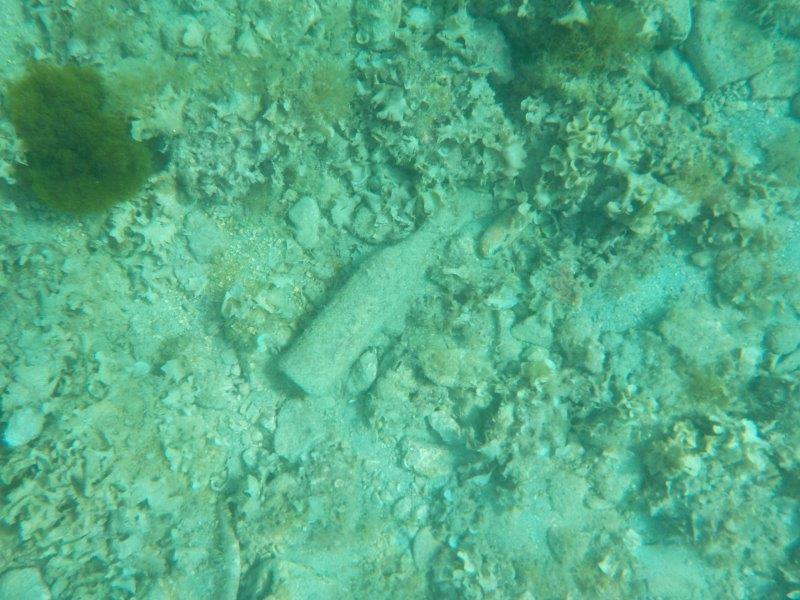bottle: (276, 202, 453, 406)
